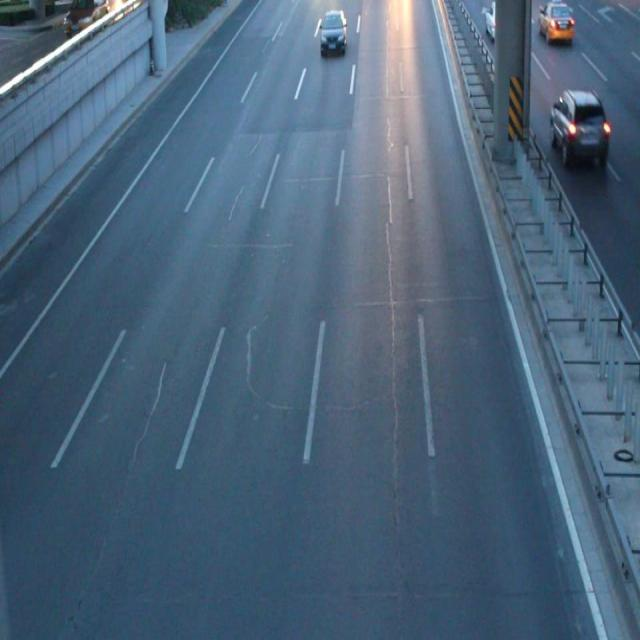car: (548, 88, 608, 162), (536, 1, 572, 38), (483, 1, 512, 38), (319, 11, 345, 48)
